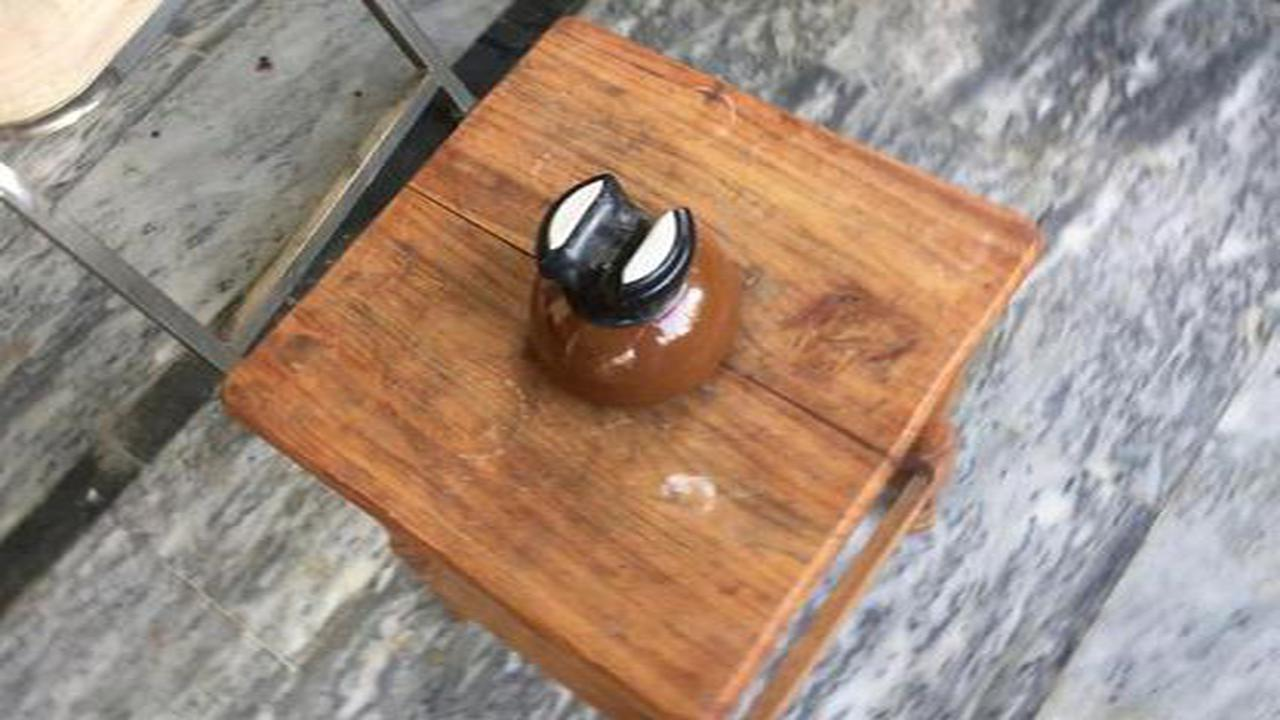insulator_pin: (496, 163, 770, 421)
